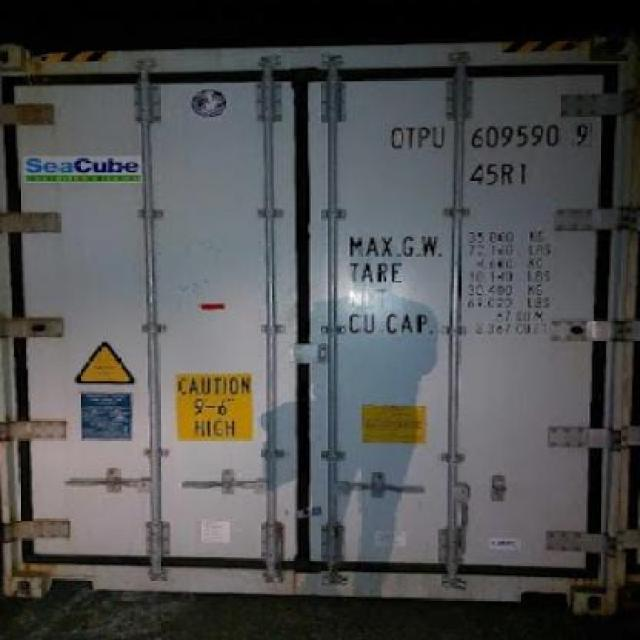ISO: (472, 162, 529, 186)
container_number: (388, 118, 595, 150)
